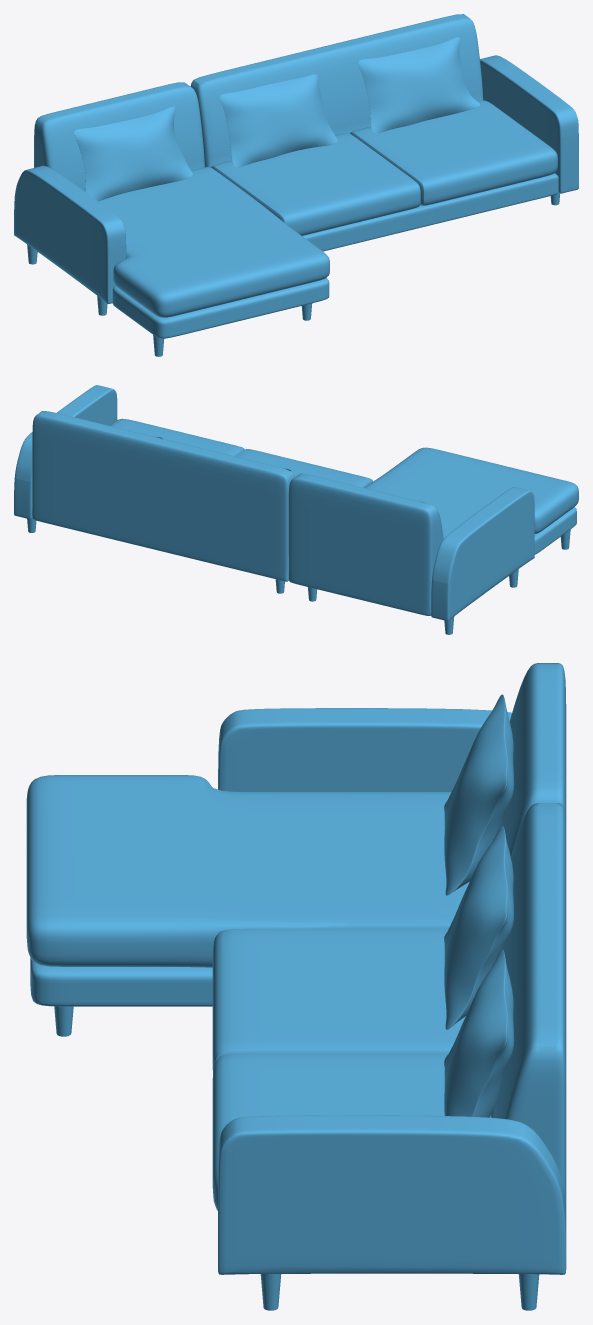
Rendered from L形沙发（145cm-270cm）左妃.gltf.
3 views of the same model, one above another, from view 1: azimuth 30°, elevation 25°; view 2: azimuth 150°, elevation 25°; view 3: azimuth 270°, elevation 25° (orthographic). The views are drawn at different scales.
Visible parts, largest first — view 1: L形沙发（145cm_270cm）左妃-材质; view 2: L形沙发（145cm_270cm）左妃-材质; view 3: L形沙发（145cm_270cm）左妃-材质.
Part boxes in pixels (x1,y1,x2,y2): L形沙发（145cm_270cm）左妃-材质: [14, 14, 578, 356]; L形沙发（145cm_270cm）左妃-材质: [14, 385, 578, 634]; L形沙发（145cm_270cm）左妃-材质: [26, 663, 566, 1310].
Bounding box in the file's own units: 270 × 75 × 145.
Materials: 1 (1 with a texture image).
